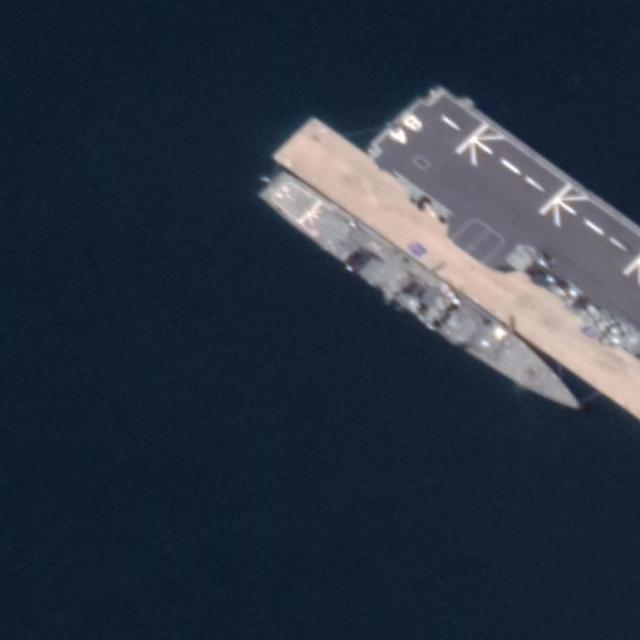Destroyer: (250, 161, 595, 427)
Other Warship: (357, 87, 638, 348)
